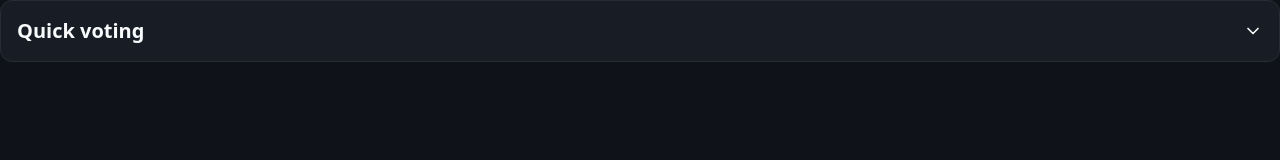
it: QuickVotingPanel › uses session identity and resets when the selected person changes
Later steps or results of the test are not shown.
Click the heading "Quick voting": (81, 30) [17,17,1263,44]
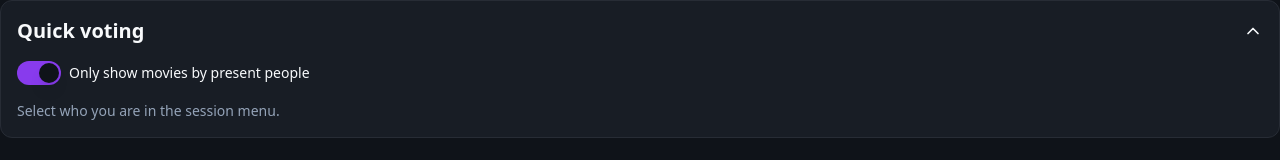
Check: the text "Select who you are in the session menu." is shown, box [17,101,280,120]
